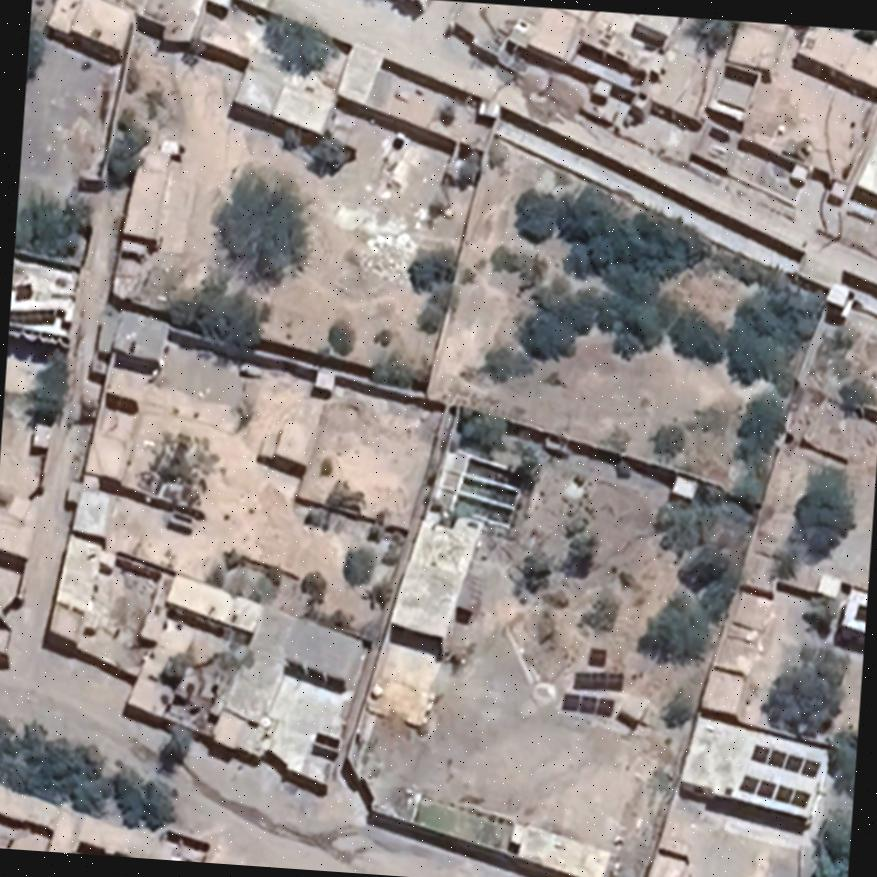Solarpanel: (731, 768, 819, 814), (746, 738, 824, 782), (553, 688, 619, 722), (565, 665, 631, 694), (581, 645, 612, 673)
